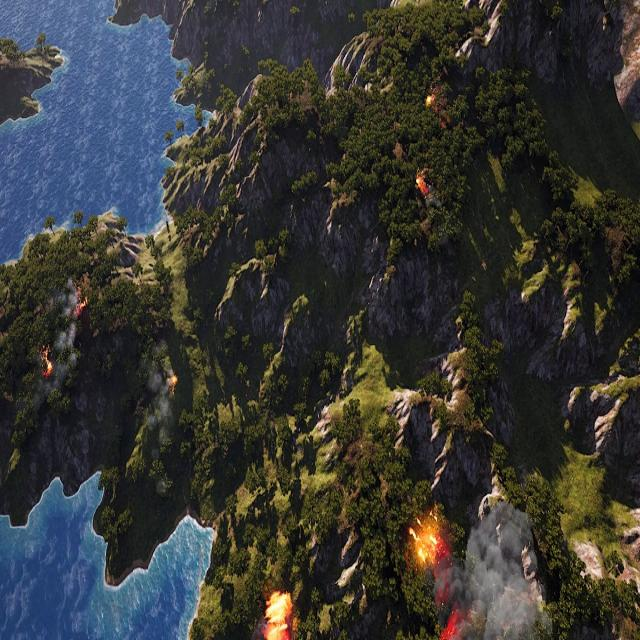fire: (408, 523, 444, 570), (264, 592, 292, 640), (439, 616, 462, 640), (415, 170, 430, 194), (42, 352, 52, 376), (75, 294, 87, 314), (171, 374, 179, 390), (425, 96, 434, 110)
smoke: (434, 496, 640, 638), (32, 282, 80, 415), (145, 340, 177, 441)
